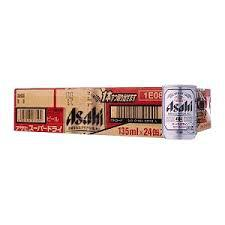beer: (10, 82, 214, 143)
